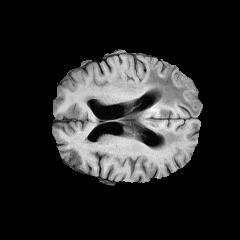glioma: (118, 68, 200, 146)
